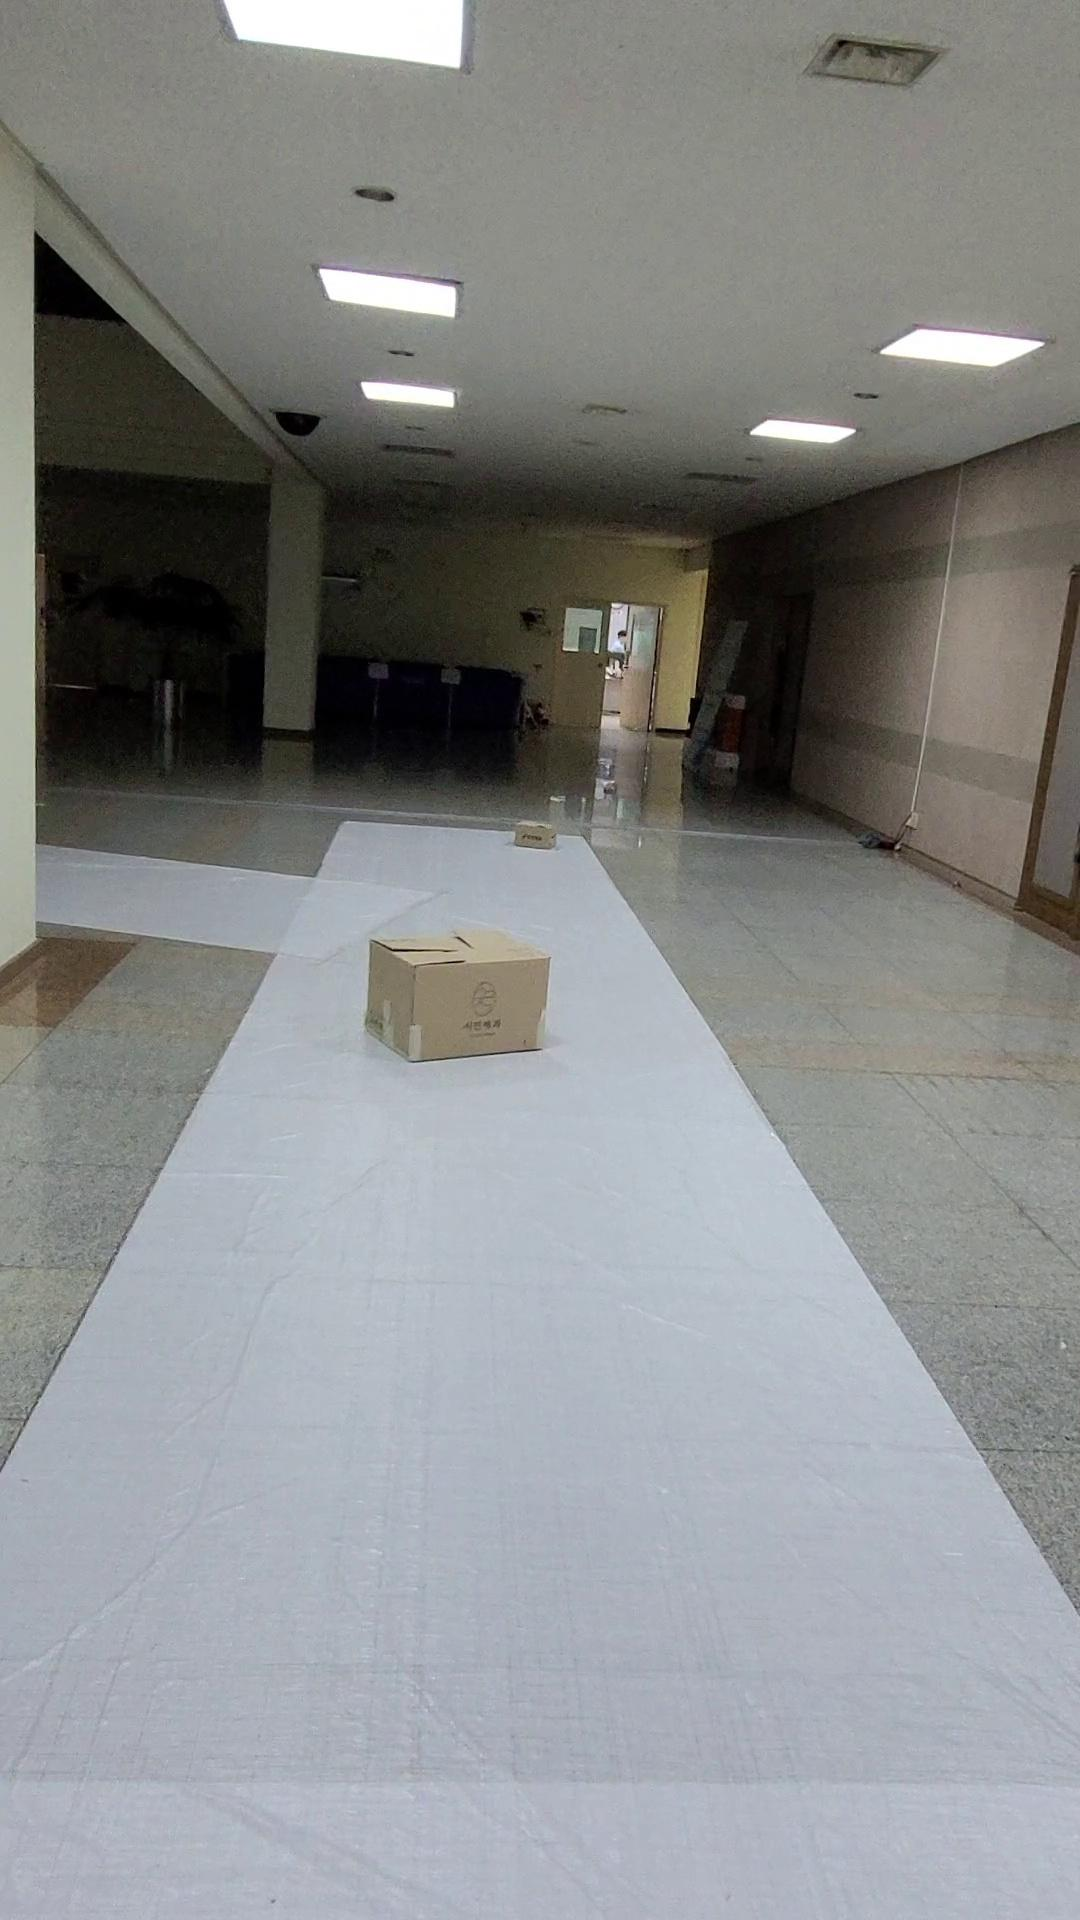Box: (342, 878, 580, 1083), (487, 783, 603, 887)
